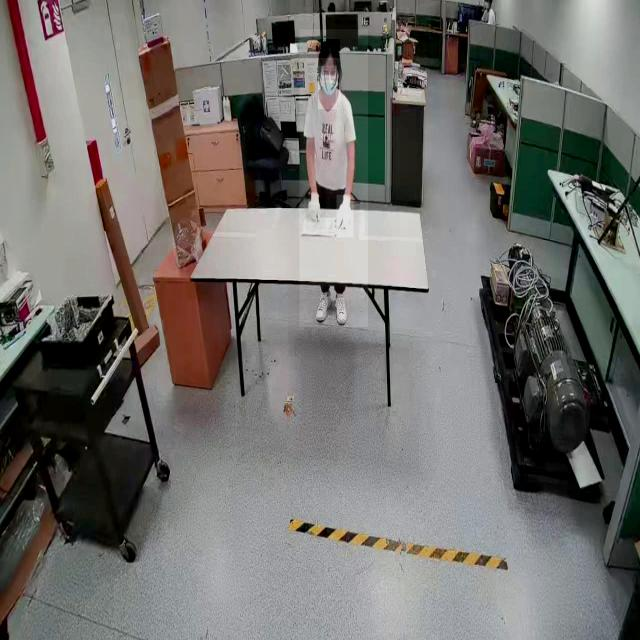face_mask: (318, 66, 338, 110)
hand_glove: (306, 187, 326, 230), (336, 195, 354, 238)
head_nohelmet: (318, 39, 340, 59)
person: (300, 29, 368, 328)
shoes: (314, 287, 331, 325), (333, 289, 348, 331)
